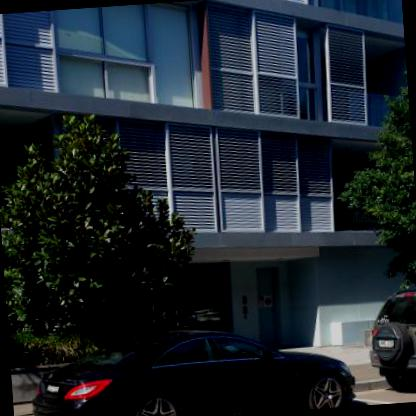car: (22, 314, 361, 415), (362, 283, 415, 403)
